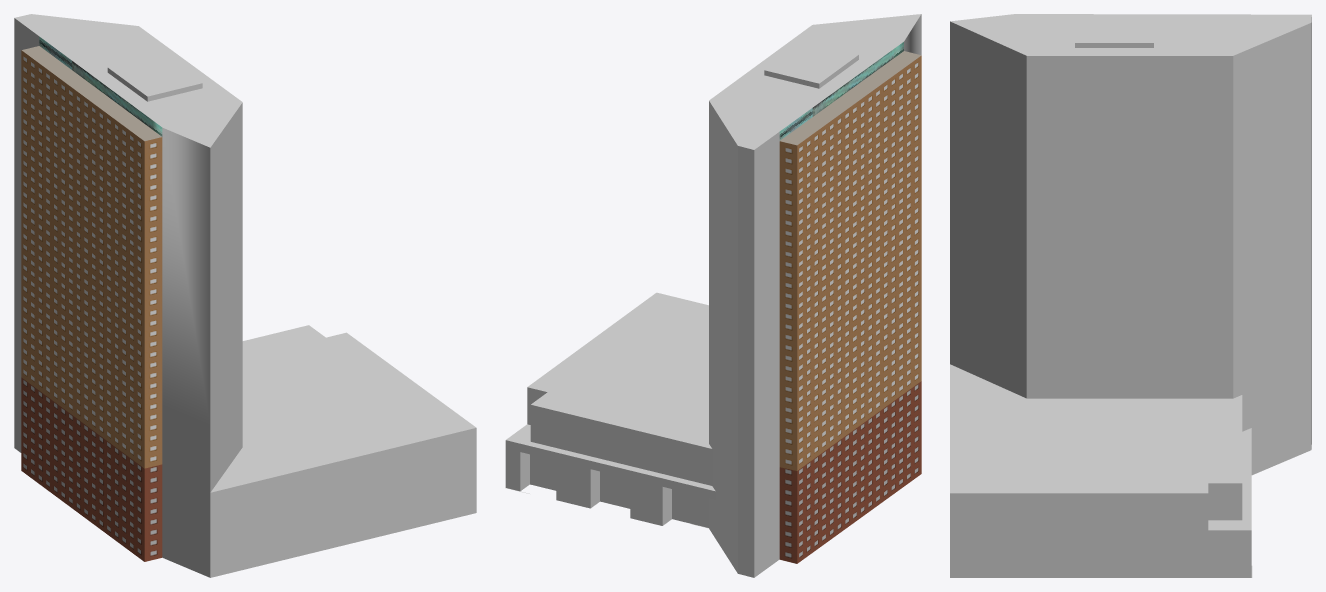
The model's file is Hotel-Sheraton-Centro-Histórico.fbx.
3 views of the same model, side by side, from view 1: azimuth 30°, elevation 25°; view 2: azimuth 150°, elevation 25°; view 3: azimuth 270°, elevation 25° (orthographic).
Parts seen in each view (by area): view 1: Model; view 2: Model; view 3: Model.
Part boxes in pixels (box(x1,y1,x2,y2)): Model: box(14, 14, 476, 577); Model: box(505, 14, 921, 577); Model: box(950, 14, 1311, 577).
Size of the model in its own units: 75.01 by 104 by 79.06.
